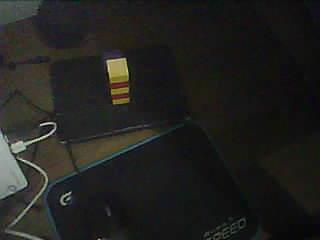lego: (105, 56, 130, 105)
